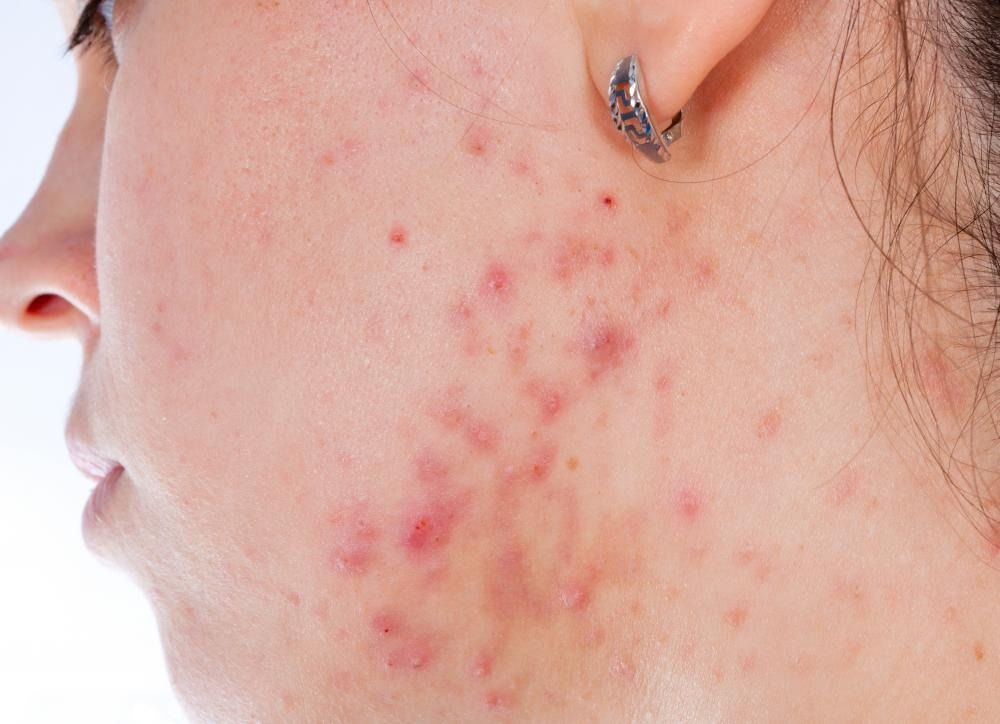Acne: (384, 500, 450, 566), (454, 124, 506, 180), (474, 258, 520, 314), (592, 180, 638, 228), (384, 220, 420, 256)
